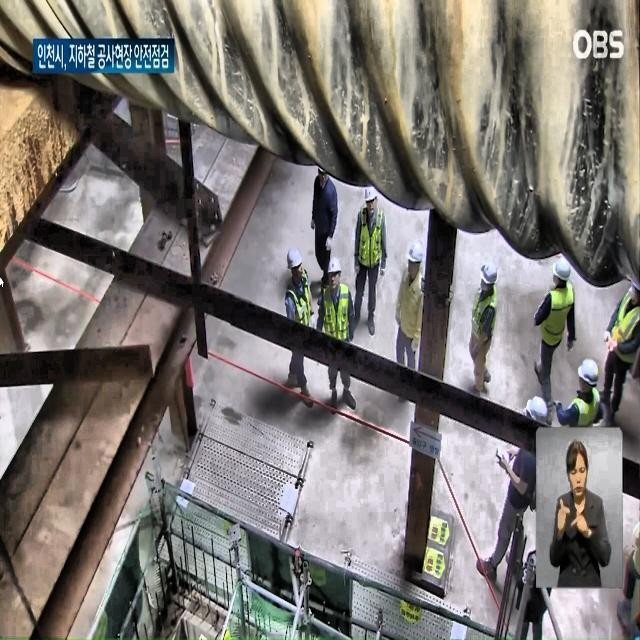safety_helmet: (524, 393, 548, 423), (577, 356, 600, 386), (287, 240, 304, 272), (479, 261, 498, 288), (408, 236, 426, 264), (551, 260, 571, 284), (364, 183, 379, 205), (328, 257, 344, 276)
safety_jacket: (607, 289, 640, 373), (568, 396, 600, 471), (318, 277, 352, 344), (542, 285, 576, 352), (357, 205, 386, 275), (471, 289, 496, 358), (286, 279, 312, 341)
